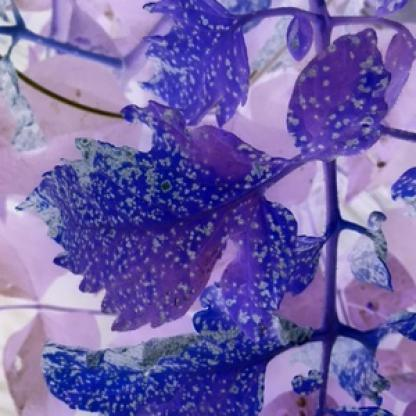Tomato leaf bacterial spot: (11, 105, 269, 337), (25, 262, 316, 410), (119, 3, 254, 137), (280, 24, 395, 176), (218, 193, 324, 336)
